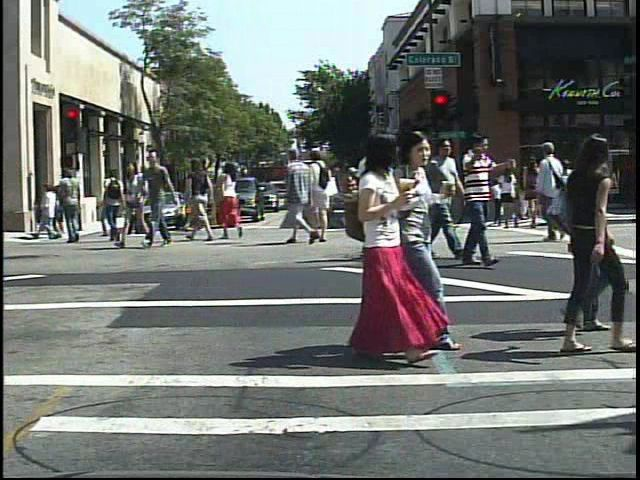person: (331, 124, 426, 373), (541, 128, 637, 362), (557, 133, 621, 337), (454, 129, 513, 275), (392, 126, 439, 271), (361, 134, 411, 266), (418, 135, 466, 260), (532, 133, 577, 249), (141, 147, 181, 253), (283, 142, 319, 245), (117, 159, 152, 252), (187, 153, 218, 248), (218, 155, 249, 244), (57, 167, 88, 245), (312, 147, 336, 246), (496, 160, 524, 231), (102, 166, 125, 244), (340, 161, 361, 230)
